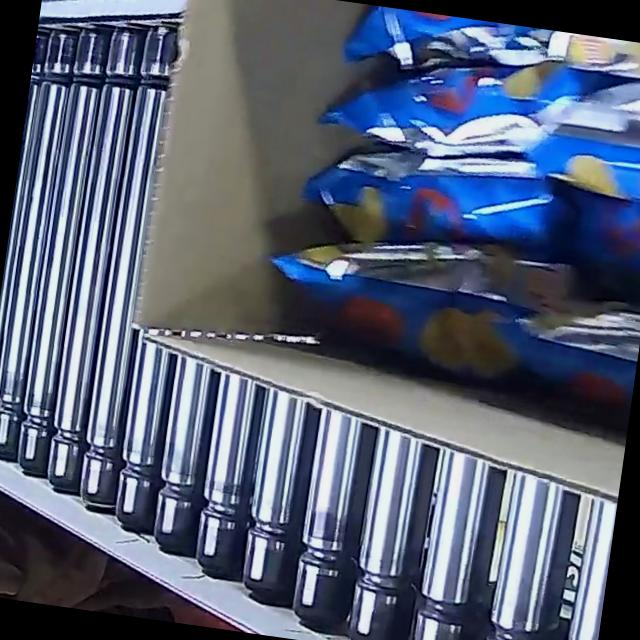paprika: (249, 0, 640, 431)
